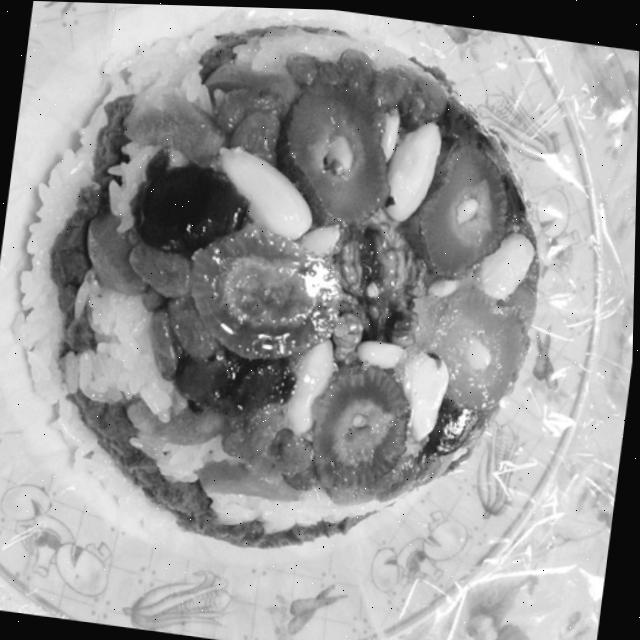米饭主食: (5, 0, 561, 568)
